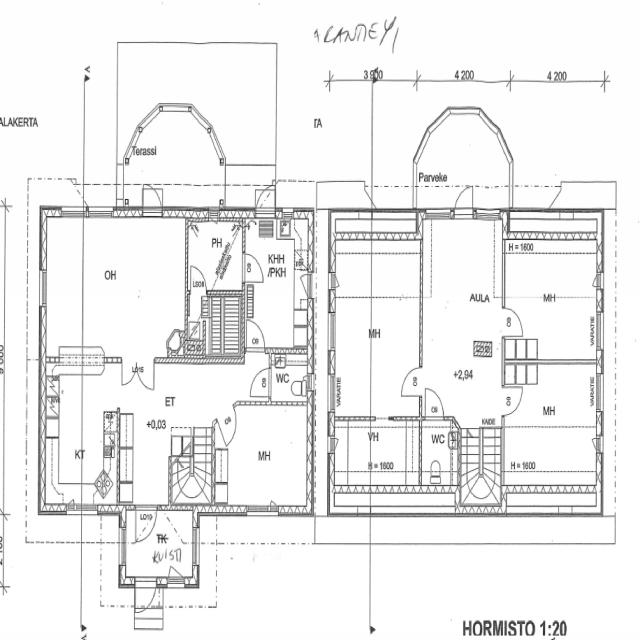door: (119, 358, 157, 392), (132, 504, 158, 546), (133, 577, 159, 617), (398, 362, 424, 398), (422, 384, 447, 421), (501, 382, 526, 419), (501, 304, 527, 338), (141, 182, 165, 217), (248, 366, 272, 400), (453, 183, 475, 219), (241, 250, 264, 284), (245, 317, 267, 352), (215, 414, 236, 449), (255, 186, 278, 216), (188, 263, 206, 293), (166, 564, 186, 590), (590, 269, 606, 292), (327, 270, 341, 290)
window: (189, 102, 212, 134), (324, 305, 338, 356), (62, 500, 99, 519), (594, 368, 607, 419), (244, 503, 278, 521), (84, 202, 116, 220), (36, 268, 48, 314), (594, 310, 606, 354), (60, 203, 87, 220), (191, 524, 201, 569), (326, 369, 336, 414), (475, 206, 502, 222), (424, 206, 454, 220), (162, 100, 190, 114), (144, 101, 162, 122), (207, 206, 221, 223)
zone: (44, 214, 188, 356), (330, 208, 420, 418), (421, 212, 505, 424), (502, 209, 604, 363), (504, 361, 604, 515), (41, 368, 118, 510), (217, 402, 312, 514), (244, 213, 312, 353), (336, 426, 417, 488), (187, 218, 244, 292), (188, 294, 243, 358), (419, 419, 460, 487), (330, 423, 371, 485), (168, 456, 212, 506), (269, 353, 311, 405), (0, 513, 6, 584)
